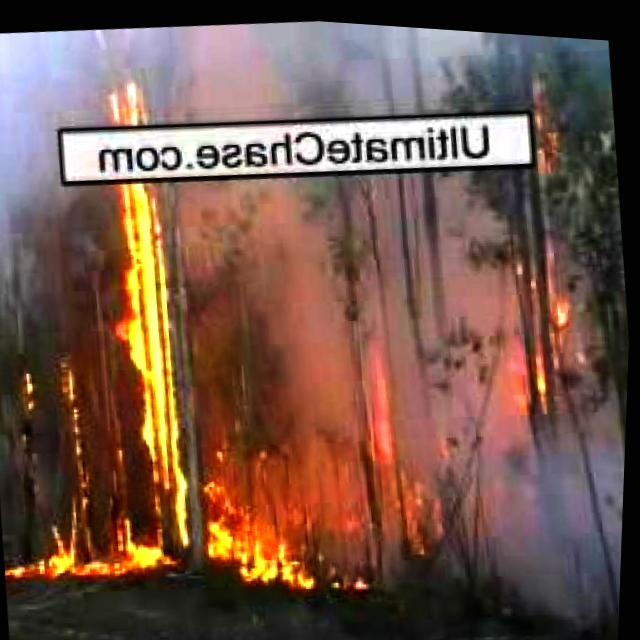Fire: (108, 173, 198, 567), (196, 461, 332, 591), (5, 510, 97, 579)
Smoke: (0, 0, 511, 158), (273, 150, 538, 423), (480, 410, 629, 626)
